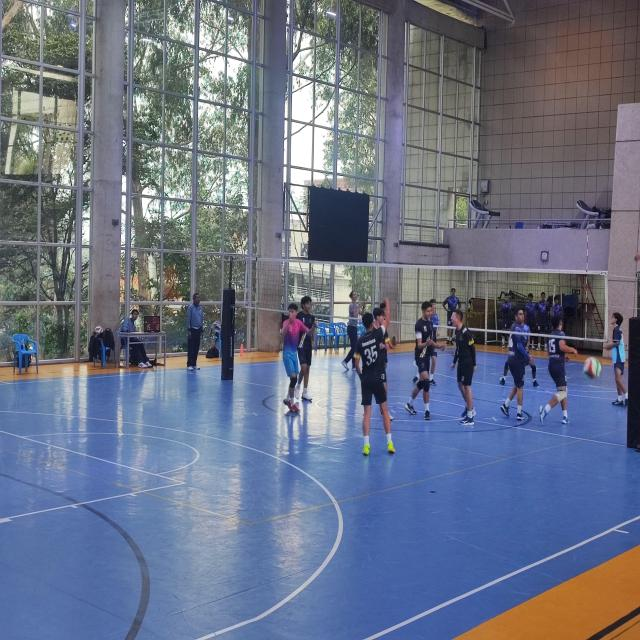volleyball: (584, 357, 602, 379), (94, 326, 102, 336)
